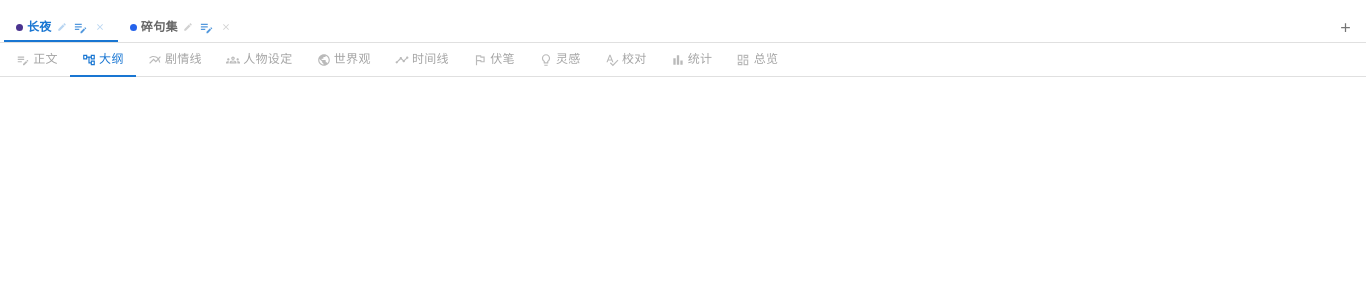
Test case: SceneTabBar · L1 = 作品页签 › 「＋」选题材 → 新建一本该题材的作品（不是新建题材组）
The width and height of the screenshot is (1366, 291).
Later steps or results of the test are not shown.
expect the icon with test id "AddIcon" is shown: met, box [1338,20,1353,34]
Click the button with test id "AddIcon". click: (1346, 27)
box: [1333,14,1358,40]
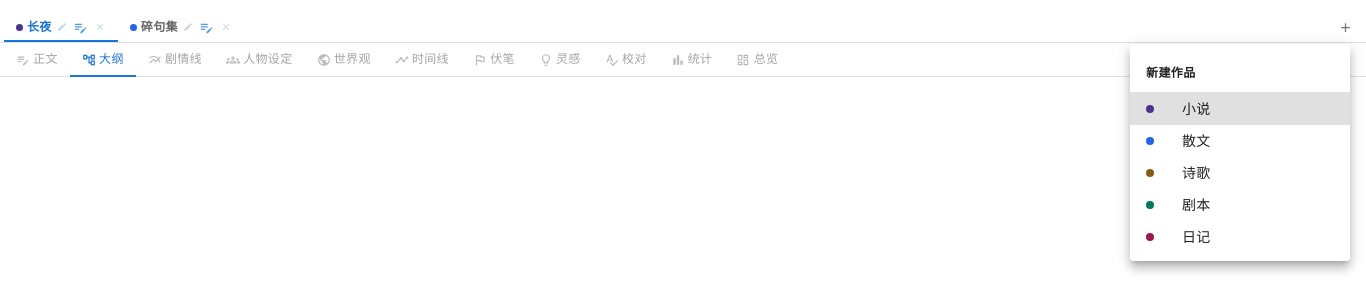
expect the menu item "散文" is shown: met, box [1146,133,1210,149]
